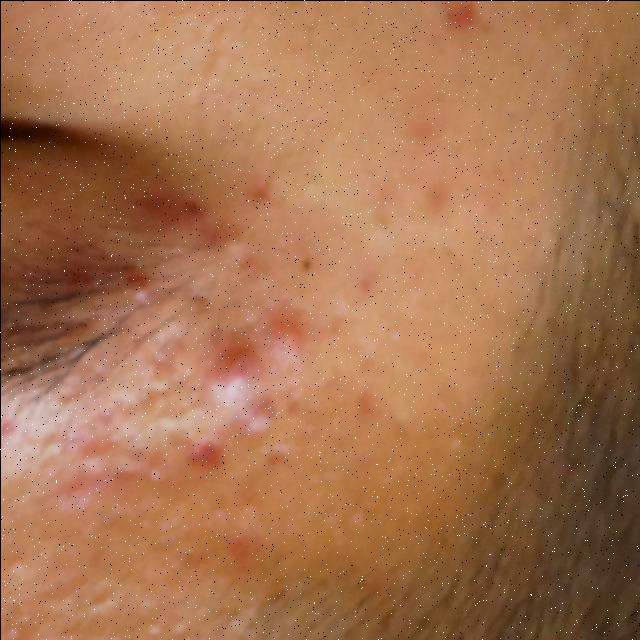nodules: (187, 342, 261, 417), (255, 304, 307, 374)
